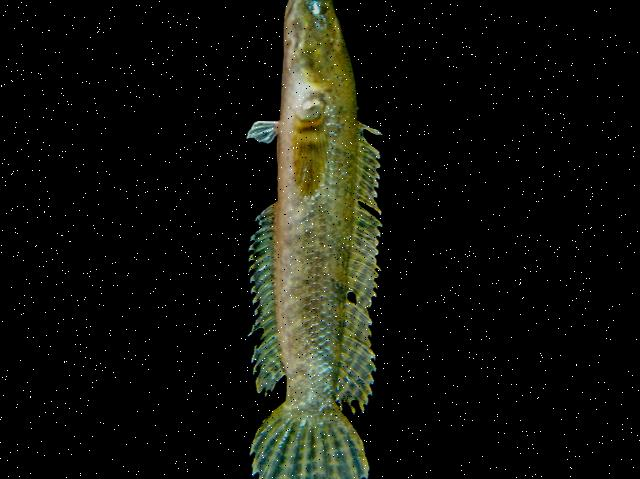Mulut: (276, 0, 332, 35)
Sirip Anal: (238, 200, 282, 402)
Sirip Dada: (290, 99, 329, 206)
Sirip Ekor: (245, 398, 377, 479)
Sirip Perut: (238, 112, 282, 158)
Sirip Punggung: (330, 118, 395, 418)
